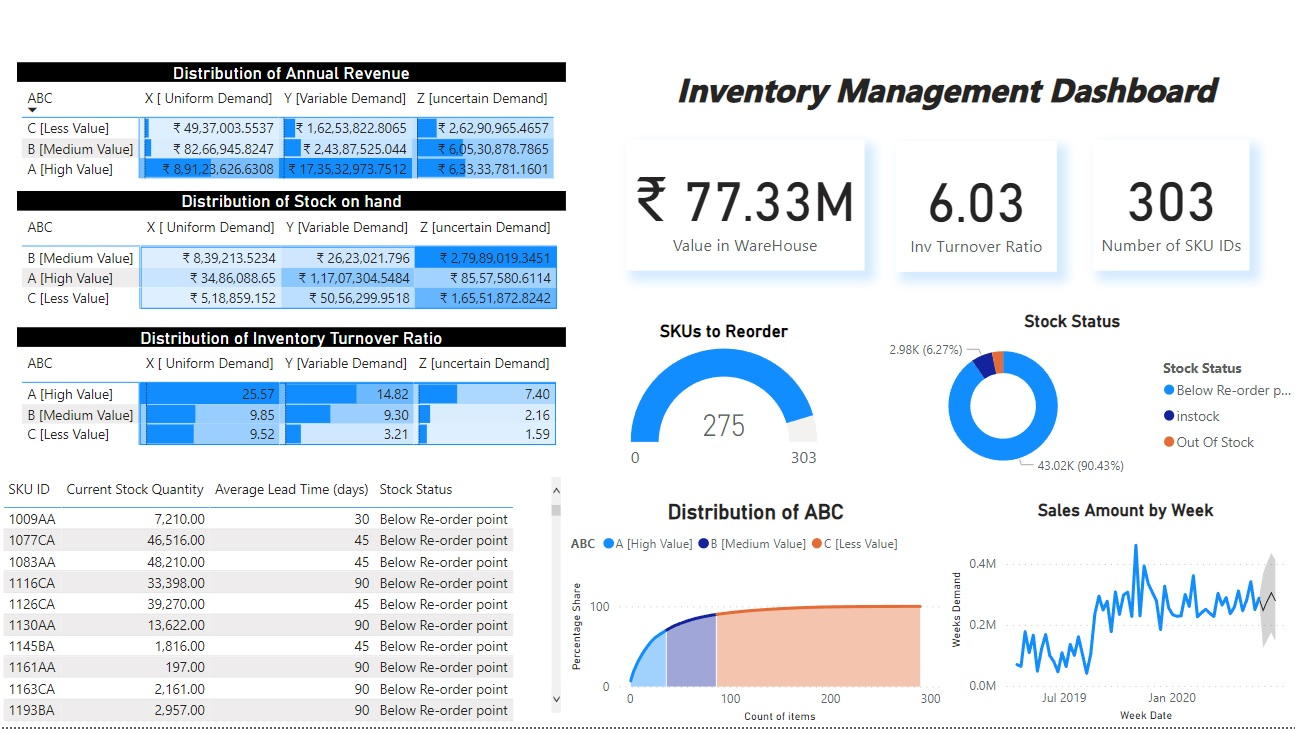

The page's visual inventory and layout, read from the dashboard file:
{"tool":"powerbi","page":{"name":"Page 1","canvas":[1280,720],"ordinal":0},"visuals":[{"type":"stackedAreaChart","title":"Distribution of ABC","fields":{"Category":["Stock.ABC rank"],"Y":["Avg(Stock.Cumulative Share)"],"Series":["Stock.ABC"]},"box":[556.2,497.5,371.6,222.5],"z":0},{"type":"pivotTable","title":"Distribution of  Annual Revenue","fields":{"Rows":["Stock.ABC"],"Columns":["Stock.XYZ"],"Values":["Sum(Stock.Annaul Revenue)"]},"box":[19.1,69.7,536.9,125.7],"z":1000},{"type":"pivotTable","title":"Distribution of Stock on hand","fields":{"Rows":["Stock.ABC"],"Columns":["Stock.XYZ"],"Values":["Sum(Stock.Value in WH)"]},"box":[19.1,195.3,536.9,127],"z":2000},{"type":"card","fields":{"Values":["Stock.Inv Turnover Ratio"]},"box":[878.9,146.7,157.7,128.4],"z":3000},{"type":"card","fields":{"Values":["Count(Weekly Demand Sheet.SKU ID)"]},"box":[1072.1,145.5,152.8,128.4],"z":4000},{"type":"card","fields":{"Values":["Sum(Stock.Value in WH)"]},"box":[614.9,145.5,233.5,128.4],"z":5000},{"type":"pivotTable","title":"Distribution of  Inventory Turnover Ratio","fields":{"Rows":["Stock.ABC"],"Columns":["Stock.XYZ"],"Values":["Stock.Inv Turnover Ratio"]},"box":[19.6,328.8,536.6,145.5],"z":6000},{"type":"tableEx","fields":{"Values":["Stock.SKU ID","Stock.Current Stock Quantity","Stock.Average Lead Time (days)","Stock.Stock Status"]},"box":[0,470.3,556.2,249.5],"z":7000},{"type":"gauge","title":"SKUs to Reorder ","fields":{"Y":["Stock.SKUs to Reorder"],"MaxValue":["CountNonNull(Stock.SKU ID)"]},"box":[614.9,322.7,191.9,157.7],"z":8000},{"type":"donutChart","title":" Stock Status","fields":{"Category":["Stock.Stock Status"],"Y":["CountNonNull(Weekly Demand Sheet.SKU ID)"]},"box":[822.4,312.8,457.6,166.7],"z":9000},{"type":"lineChart","title":"Sales Amount by Week","fields":{"Y":["Sum(Weekly Demand Sheet.Weeks Demand)"],"Category":["Weekly Demand Sheet.Week Date"]},"box":[928.3,497.6,351.7,222.2],"z":10000},{"type":"textbox","box":[599.7,69.7,655.7,62.8],"z":10001}]}

Visuals, with their boxes in screenshot pixels (x1, y1, x2, y2), scaled from the page's 1280x720 canvas onto the 1295x731 screenshot:
"Distribution of ABC" stackedAreaChart: left=563, top=505, right=939, bottom=730
"Distribution of  Annual Revenue" pivotTable: left=19, top=71, right=563, bottom=198
"Distribution of Stock on hand" pivotTable: left=19, top=198, right=563, bottom=327
card - Stock.Inv Turnover Ratio: left=889, top=149, right=1049, bottom=279
card - Count(Weekly Demand Sheet.SKU ID): left=1085, top=148, right=1239, bottom=278
card - Sum(Stock.Value in WH): left=622, top=148, right=858, bottom=278
"Distribution of  Inventory Turnover Ratio" pivotTable: left=20, top=334, right=563, bottom=482
tableEx - Stock.SKU ID x Stock.Current Stock Quantity: left=0, top=477, right=563, bottom=730
"SKUs to Reorder " gauge: left=622, top=328, right=816, bottom=488
" Stock Status" donutChart: left=832, top=318, right=1294, bottom=487
"Sales Amount by Week" lineChart: left=939, top=505, right=1294, bottom=730
textbox: left=607, top=71, right=1270, bottom=135
